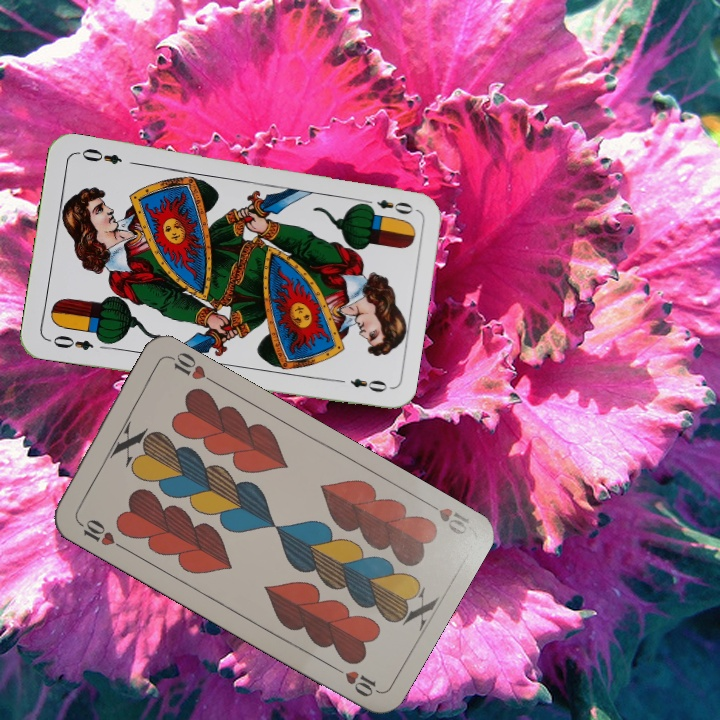EO: (358, 194, 416, 217), (44, 331, 96, 353)
H10: (419, 496, 472, 539), (73, 515, 127, 552)
